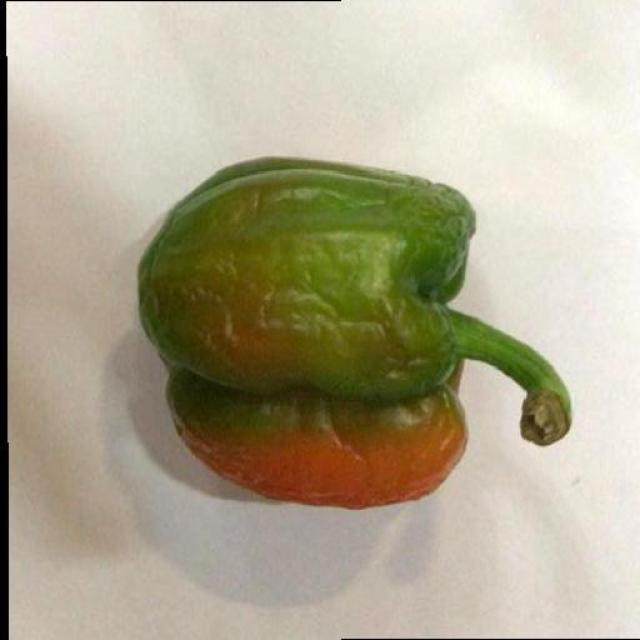Stale_Capsicum: (128, 134, 566, 534)
